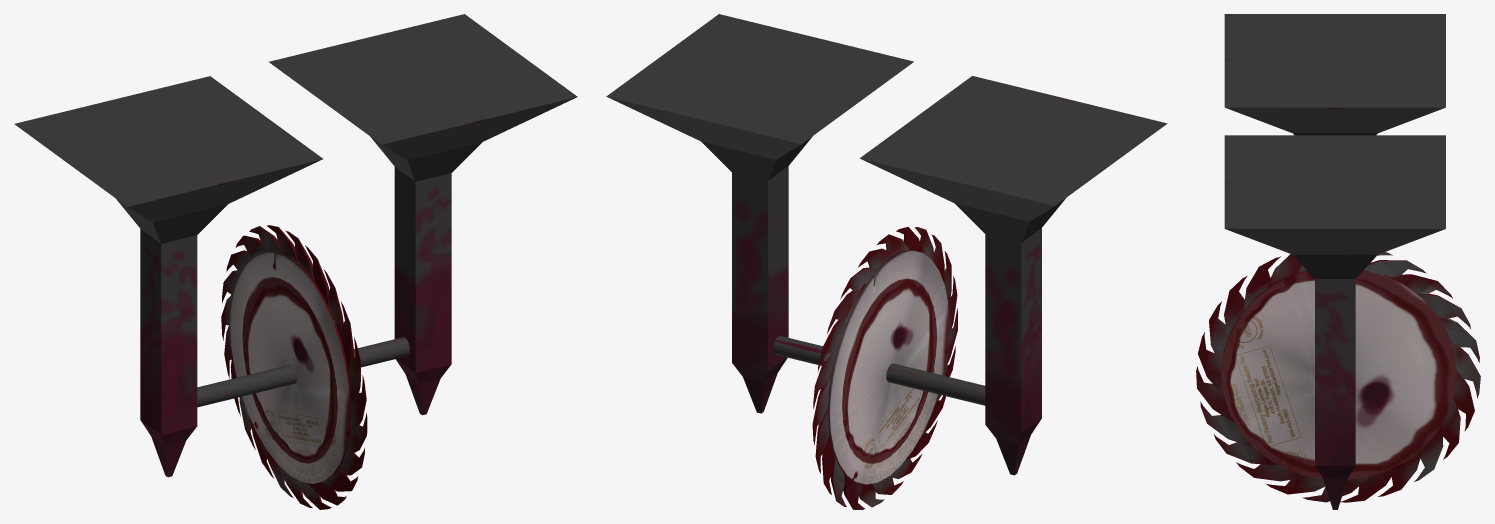
Rendered from saw.fbx.
3 renders of one model, left to right at view 1: azimuth 30°, elevation 25°; view 2: azimuth 150°, elevation 25°; view 3: azimuth 270°, elevation 25°, orthographic. The views are drawn at different scales.
Visible parts, largest first — view 1: support, saw, Holder; view 2: support, saw, Holder; view 3: support, saw.
Part boxes in pixels (x1,y1,x2,y2): support: [14, 14, 577, 477]; saw: [221, 225, 367, 509]; Holder: [197, 337, 409, 407]; support: [606, 14, 1167, 475]; saw: [812, 227, 957, 509]; Holder: [773, 336, 985, 405]; support: [1224, 14, 1445, 509]; saw: [1196, 252, 1480, 502].
Size of the model in its own units: 789 by 653 by 442.
Materials: 3 (3 with a texture image).
